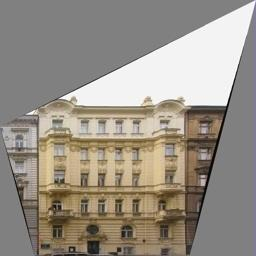building: (39, 82, 188, 256)
